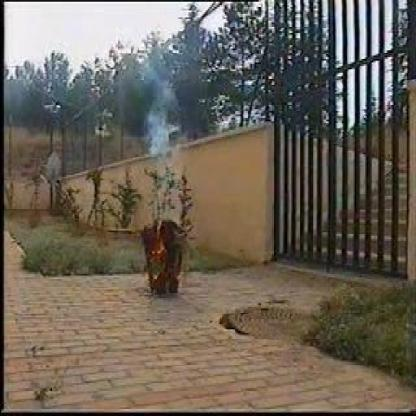-: (146, 73, 174, 158)
foggia-v2-map80-epoch100 - v1 4323: (152, 232, 168, 258)
